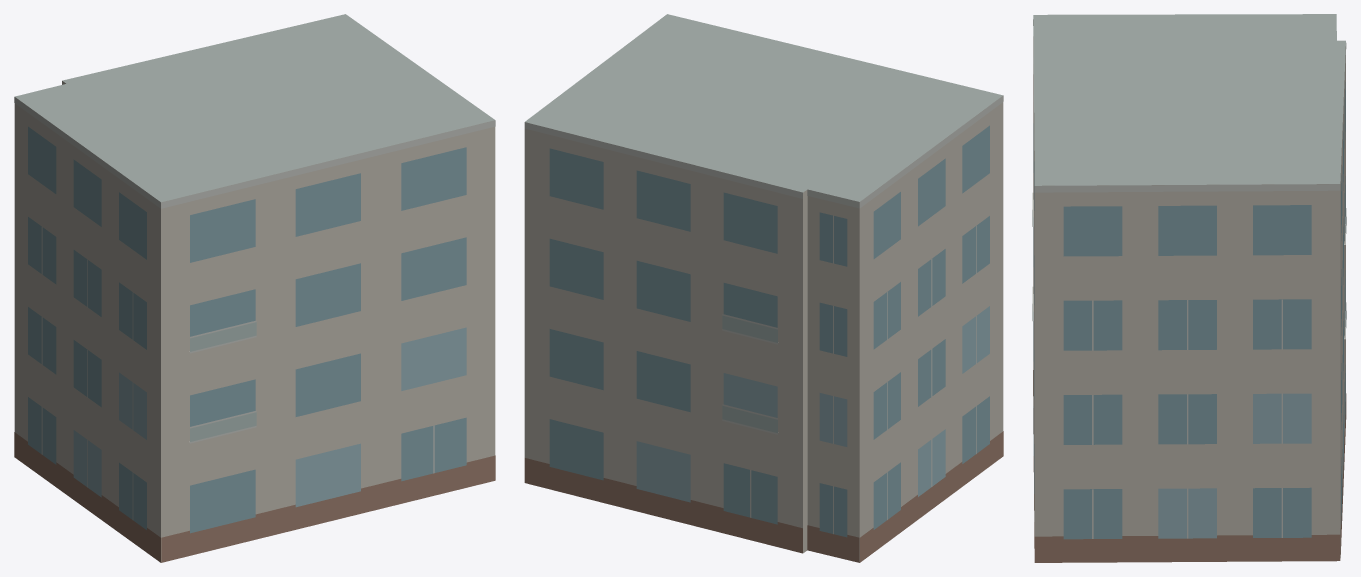
Rendered from survey-upis-32520149.glb.
The picture shows the model from 3 angles, left to right: view 1: azimuth 30°, elevation 25°; view 2: azimuth 150°, elevation 25°; view 3: azimuth 270°, elevation 25°; orthographic projection. The views are drawn at different scales.
Visible parts, largest first — view 1: survey-upis-32520149.tmp; view 2: survey-upis-32520149.tmp; view 3: survey-upis-32520149.tmp.
Boxes of the visible parts, <box> form: survey-upis-32520149.tmp: <box>14,14,495,562</box>; survey-upis-32520149.tmp: <box>524,14,1003,562</box>; survey-upis-32520149.tmp: <box>1032,14,1346,562</box>.
Bounding box in the file's own units: 13.29 × 13.59 × 10.28.
